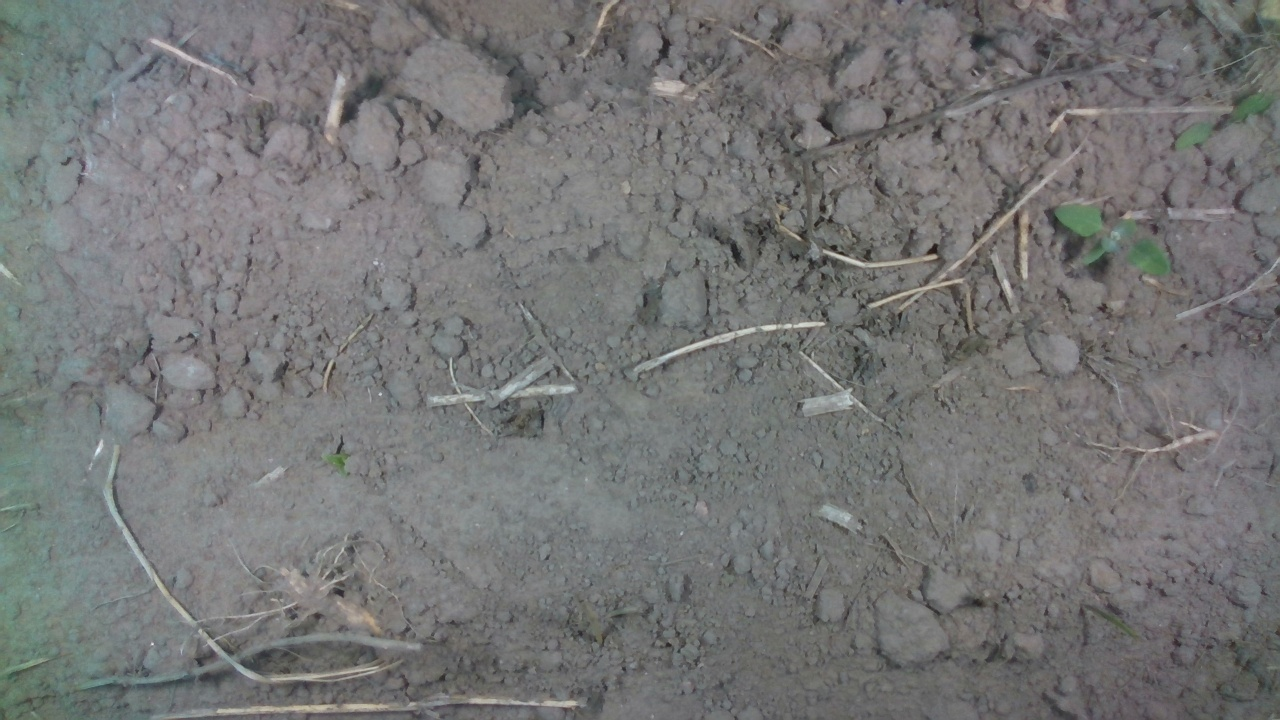weed: (1051, 199, 1173, 279), (1171, 89, 1278, 150)
